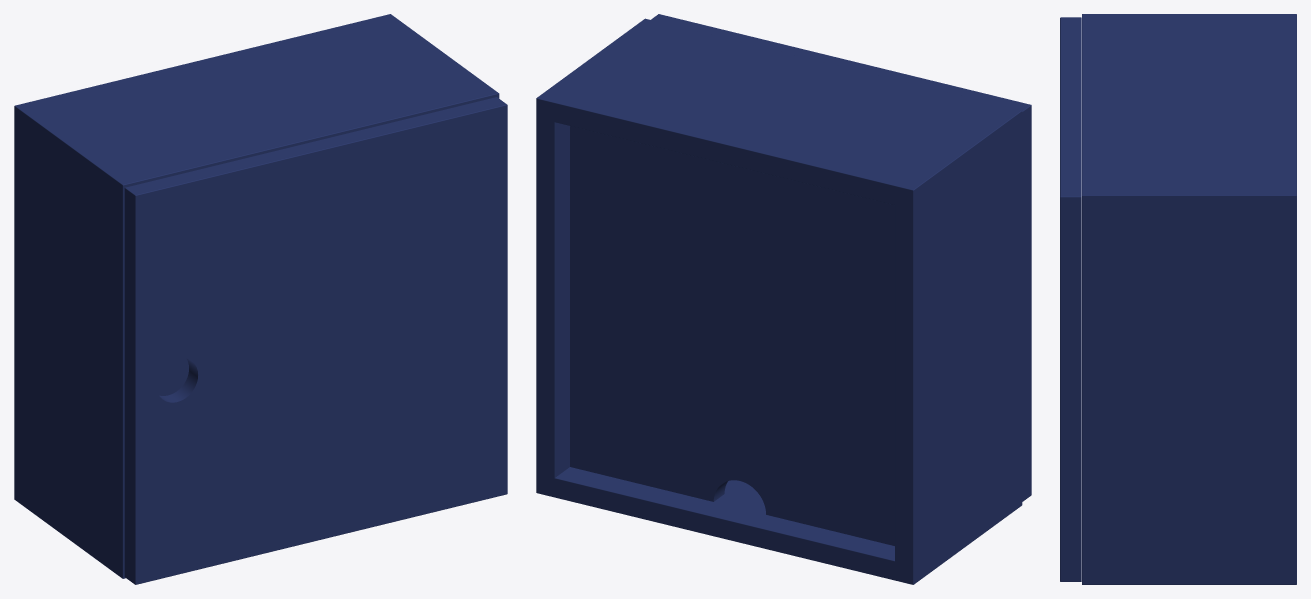
File: MODH_1X1_D_B_IZQ_AP_AF.glb
The picture shows the model from 3 angles, left to right: view 1: azimuth 30°, elevation 25°; view 2: azimuth 150°, elevation 25°; view 3: azimuth 270°, elevation 25°; orthographic projection.
Bounding box in the file's own units: 360 × 360 × 198.
